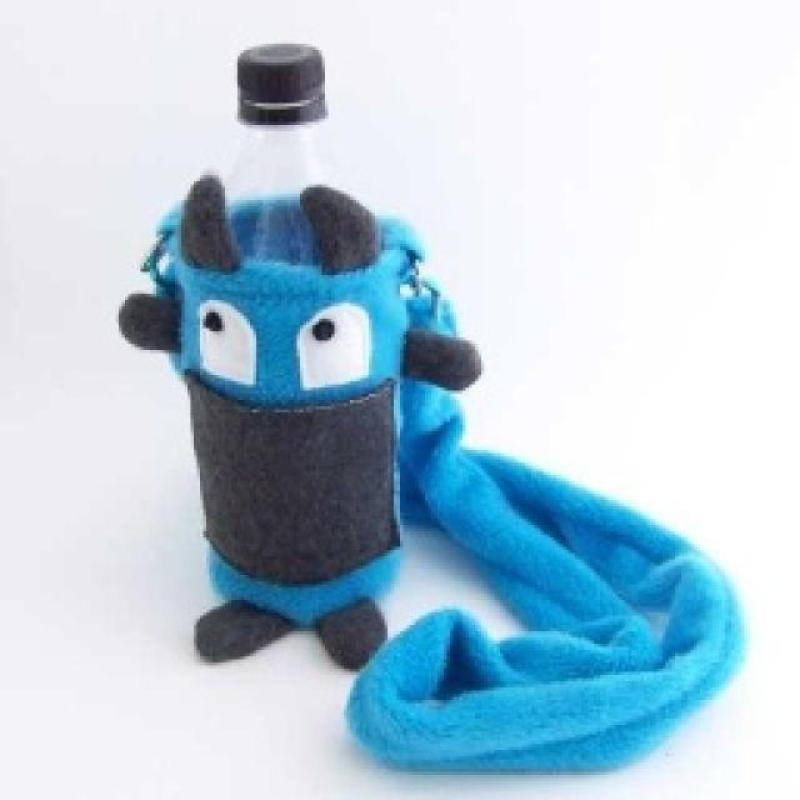botella: (179, 42, 373, 270)
